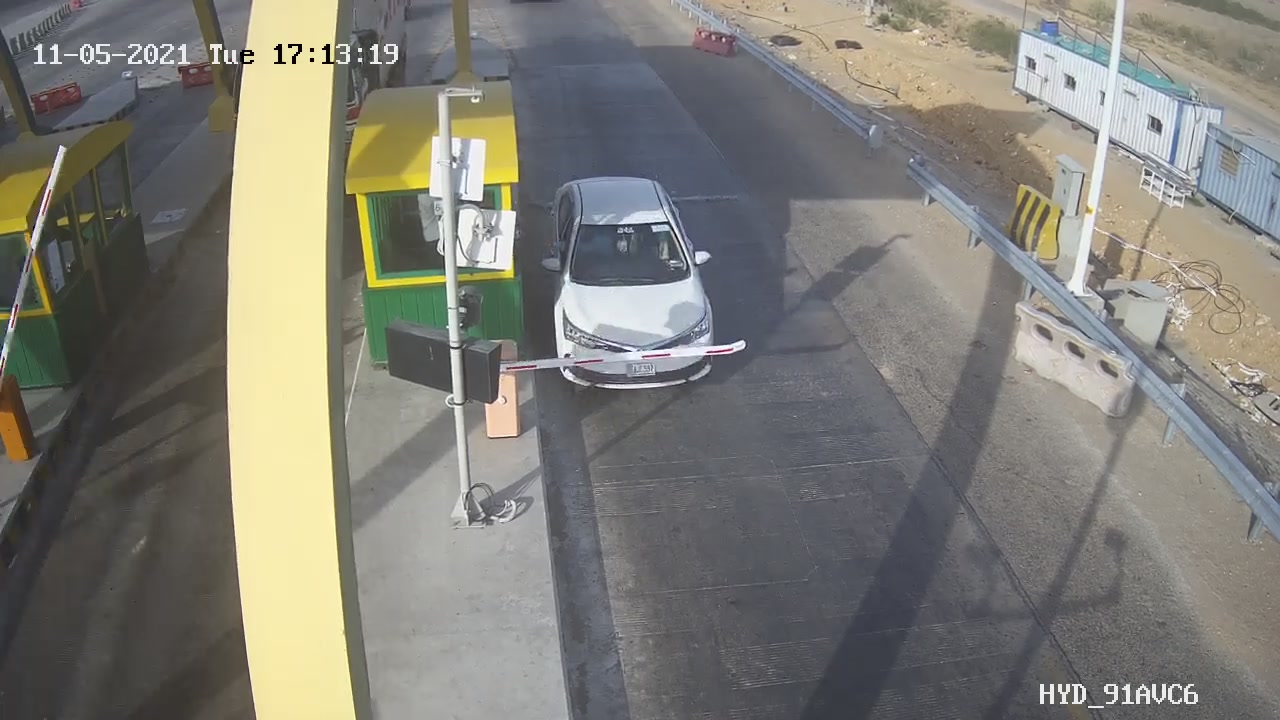F1: (526, 165, 735, 404)
